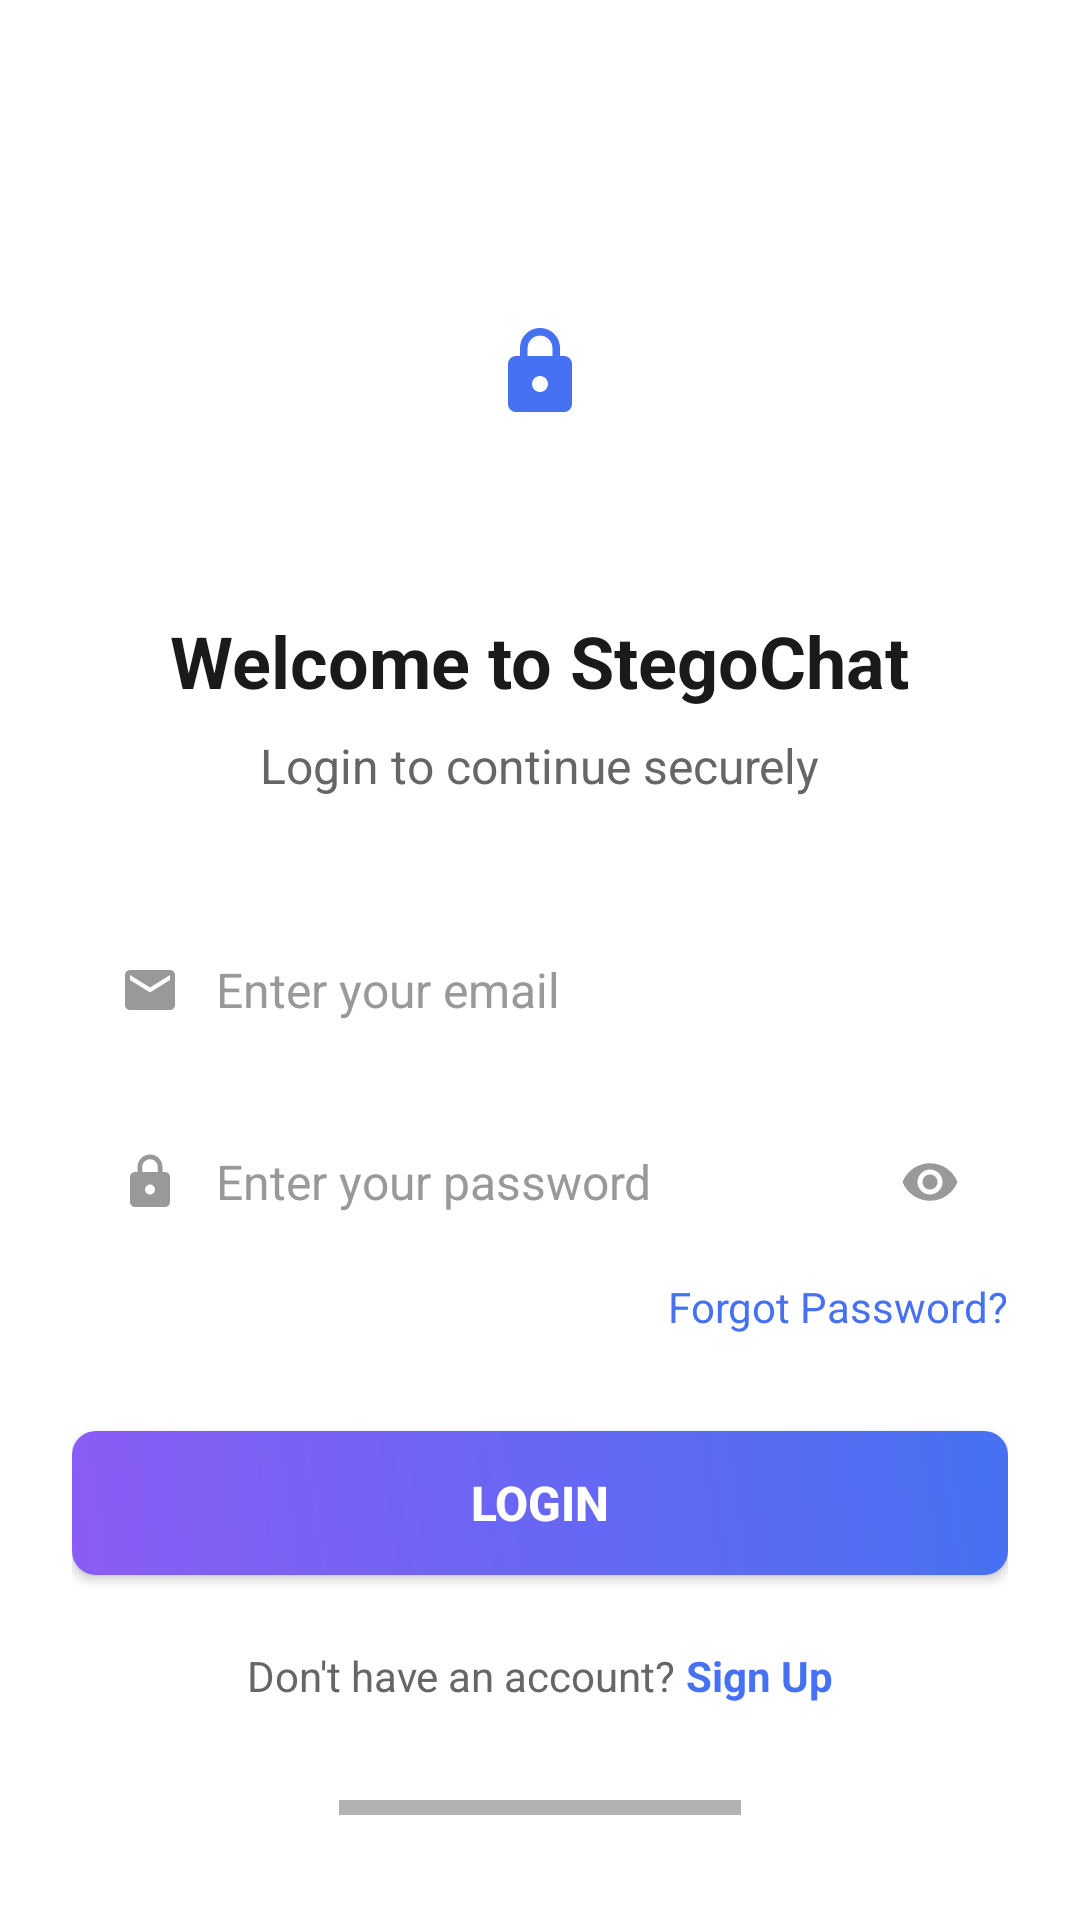

Icons on this 1080 x 1920 Android screen, each with its box as box=[x1, y1, x2, y2]:
eye: box=[902, 1163, 958, 1201]
lock: box=[130, 1154, 170, 1207]
Secure lock icon: box=[508, 328, 572, 412]
